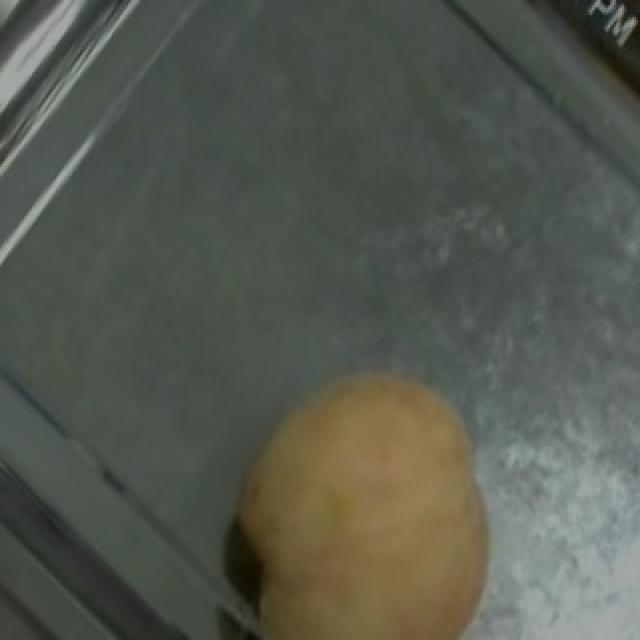Fruit: (184, 332, 518, 640)
